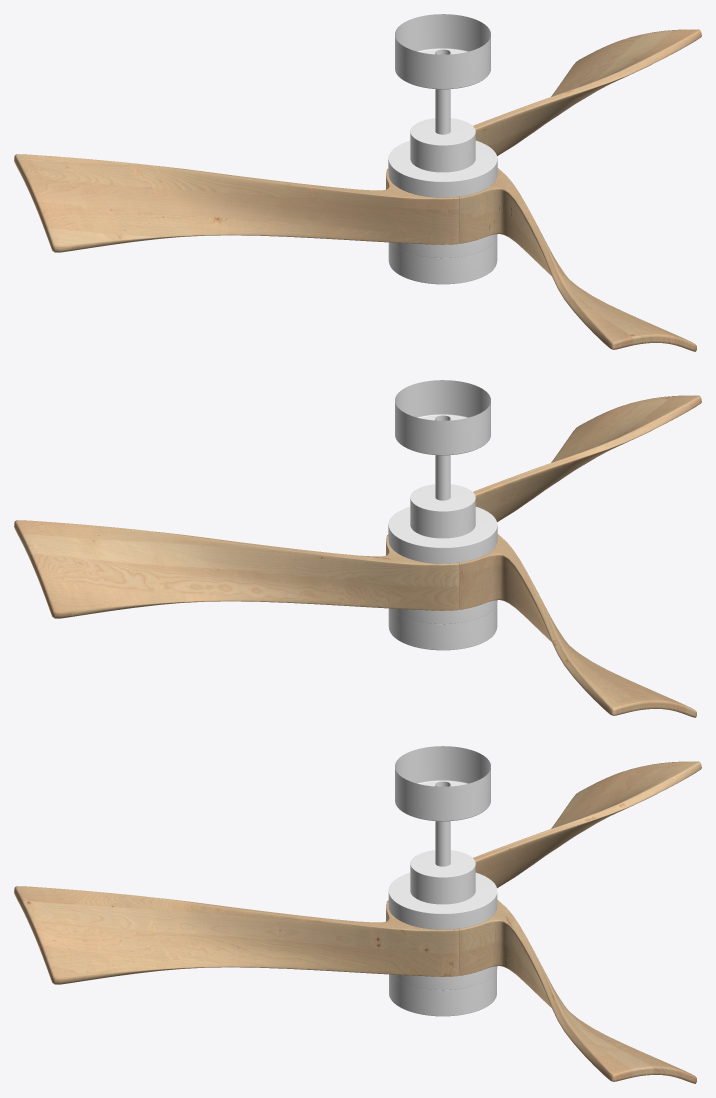
The model's file is windlight_curve_export.dae.
3 views of the same model, one above another, from view 1: azimuth 30°, elevation 25°; view 2: azimuth 150°, elevation 25°; view 3: azimuth 270°, elevation 25° (orthographic).
Visible parts, largest first — view 1: aspa_red_2, aspa_red_3, aspa_red_1, cilindro_arriba, cilindro_medio_02, cilindro_medio01, cilindro_luz, cilindr_abajo_01, cilindro_union; view 2: aspa_red_1, aspa_red_2, aspa_red_3, cilindro_arriba, cilindro_medio_02, cilindro_medio01, cilindro_luz, cilindr_abajo_01, cilindro_union; view 3: aspa_red_3, aspa_red_1, aspa_red_2, cilindro_arriba, cilindro_medio_02, cilindro_medio01, cilindro_luz, cilindr_abajo_01, cilindro_union.
Boxes of the visible parts, box(x1,y1,x2,y2) form: aspa_red_2: box(14, 154, 459, 252); aspa_red_3: box(459, 168, 696, 351); aspa_red_1: box(387, 29, 701, 169); cilindro_arriba: box(395, 14, 490, 89); cilindro_medio_02: box(388, 140, 497, 197); cilindro_medio01: box(410, 118, 475, 172); cilindro_luz: box(388, 238, 497, 284); cilindr_abajo_01: box(392, 234, 497, 258); cilindro_union: box(435, 49, 450, 134); aspa_red_1: box(14, 520, 459, 618); aspa_red_2: box(459, 534, 696, 717); aspa_red_3: box(387, 395, 701, 535); cilindro_arriba: box(395, 380, 490, 455); cilindro_medio_02: box(388, 506, 497, 563); cilindro_medio01: box(410, 484, 475, 538); cilindro_luz: box(388, 603, 497, 650); cilindr_abajo_01: box(392, 600, 497, 624); cilindro_union: box(435, 415, 450, 500); aspa_red_3: box(14, 886, 459, 984); aspa_red_1: box(459, 899, 696, 1083); aspa_red_2: box(387, 761, 701, 901); cilindro_arriba: box(395, 746, 490, 821); cilindro_medio_02: box(388, 872, 497, 929); cilindro_medio01: box(410, 850, 475, 904); cilindro_luz: box(389, 970, 496, 1016); cilindr_abajo_01: box(392, 966, 497, 990); cilindro_union: box(435, 781, 450, 866).
Size of the model in its own units: 11.97 by 3.91 by 10.72.
